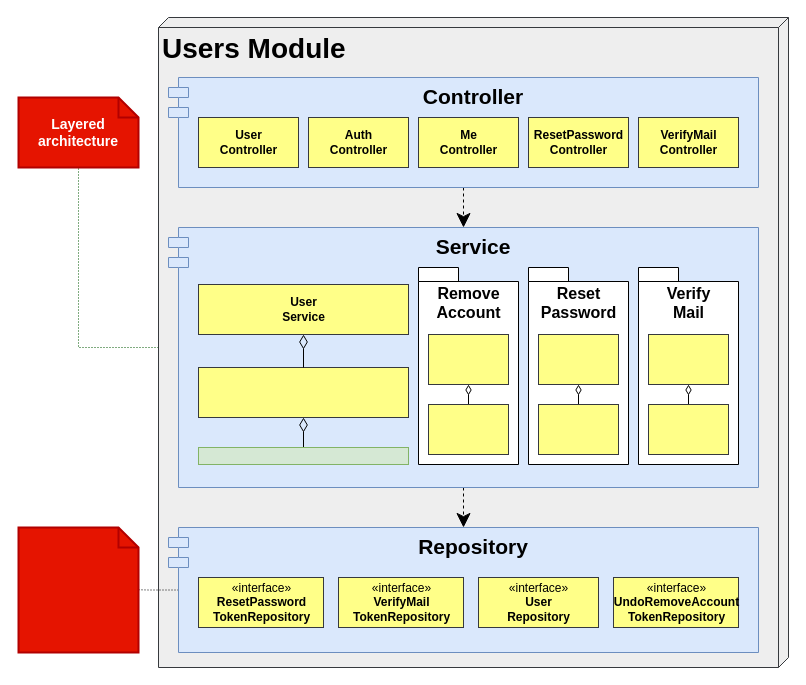
This 806x685 diagram has some shape labels left out. Each missing label, with the centre of its shape:
"Auth Service" belongs at point (303, 392).
"PasswordEncoder" belongs at point (303, 455).
"Remove Account Service" belongs at point (468, 359).
"Repository implementations are generated at runtime by Spring Data" belongs at point (78, 589).
"Reset Password Service" belongs at point (578, 359).
"Reset Password TokenService" belongs at point (578, 429).
"UndoRemove Account Service" belongs at point (468, 429).
"Verify Mail Service" belongs at point (688, 359).
"Verify Mail TokenService" belongs at point (688, 429).
